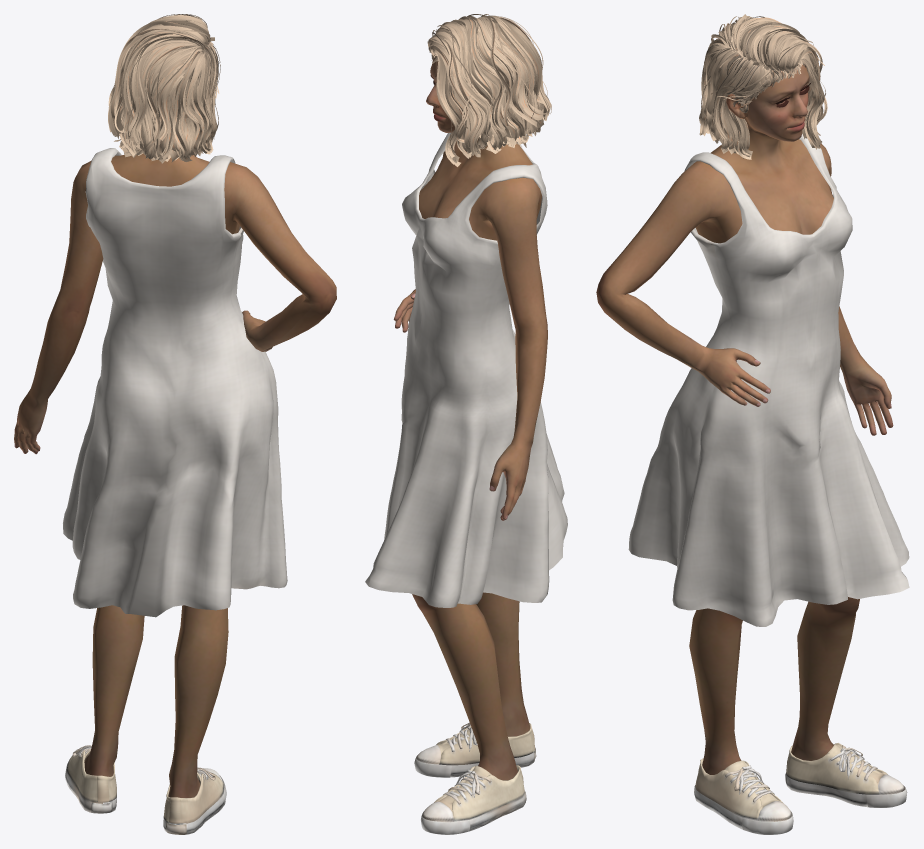
File: dress.glb
The picture shows the model from 3 angles, left to right: view 1: azimuth 30°, elevation 25°; view 2: azimuth 150°, elevation 25°; view 3: azimuth 270°, elevation 25°; orthographic projection. The views are drawn at different scales.
Parts seen in each view (by area): view 1: root; view 2: root; view 3: root.
Part boxes in pixels (bbox=[...]): root: bbox=[14, 14, 336, 834]; root: bbox=[365, 14, 567, 834]; root: bbox=[596, 14, 909, 834].
Bounding box in the file's own units: 0.4181 × 1.66 × 0.5976.
Materials: 1 (1 with a texture image).
